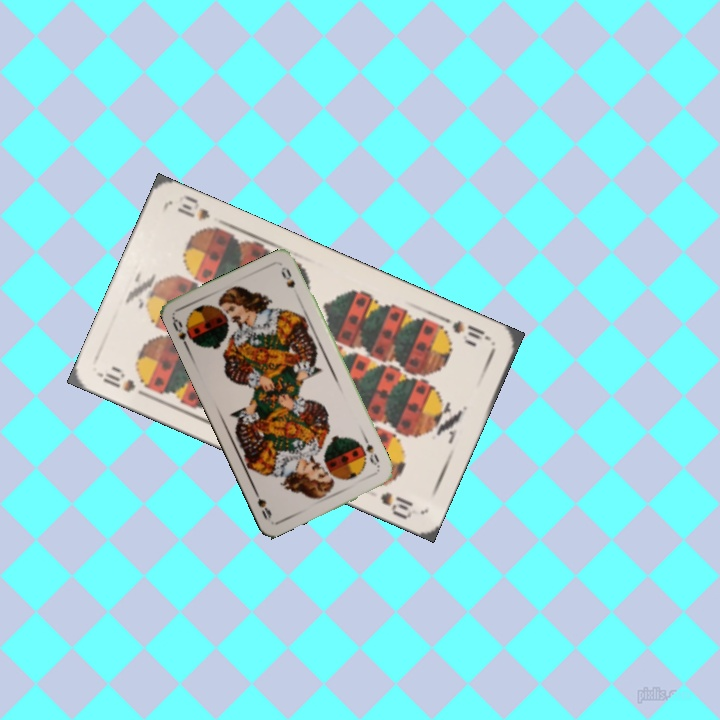S10: (96, 363, 153, 401), (448, 316, 494, 344)
SO: (168, 314, 199, 352), (357, 433, 383, 470)
